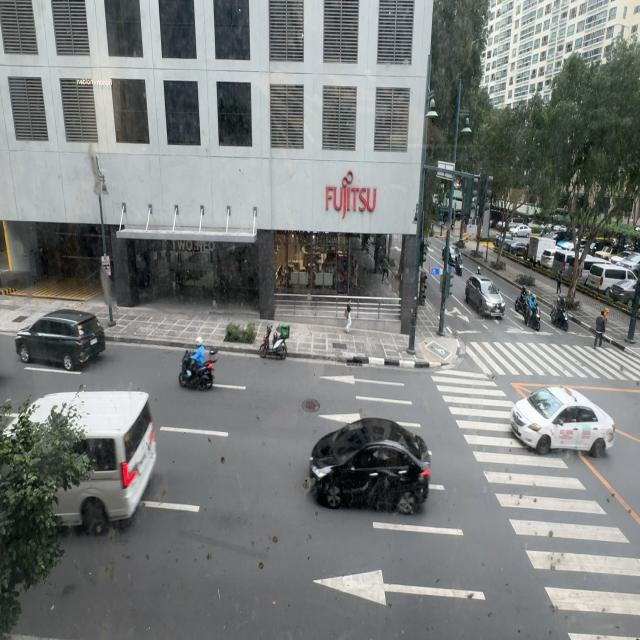crossing: (594, 309, 606, 347)
pedestrain: (344, 300, 352, 332), (556, 270, 563, 294)
